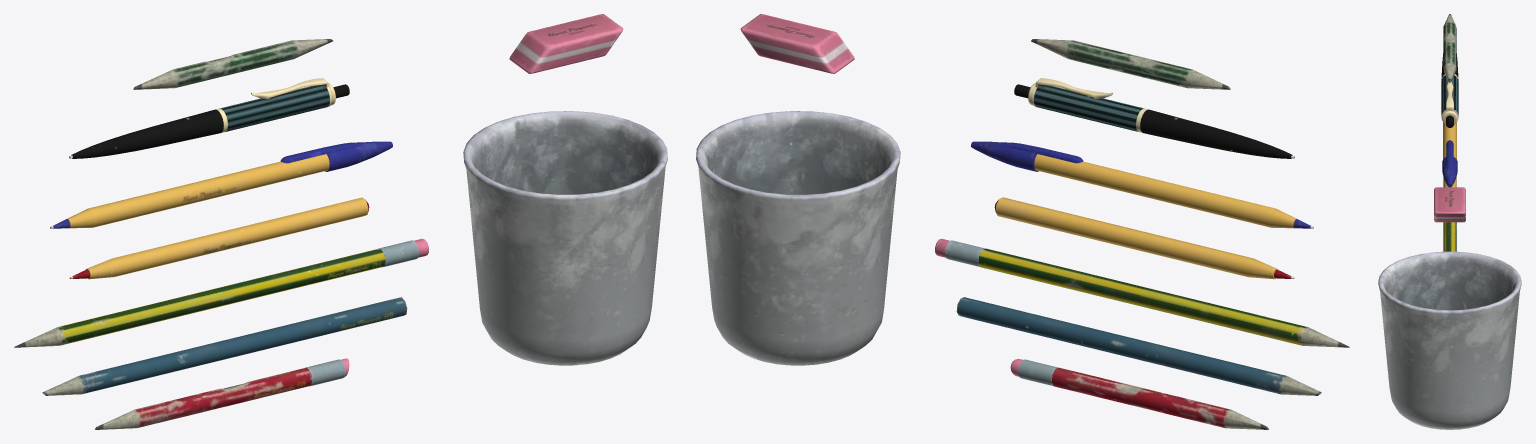
The model's file is stationery_supplies.glb.
3 views of the same model, side by side, from view 1: azimuth 30°, elevation 25°; view 2: azimuth 150°, elevation 25°; view 3: azimuth 270°, elevation 25° (orthographic). The views are drawn at different scales.
Visible parts, largest first — view 1: stationery_supplies_pen_red; view 2: stationery_supplies_pen_red; view 3: stationery_supplies_pen_red.
Boxes of the visible parts, x1=… form: stationery_supplies_pen_red: x1=14, y1=14, x2=667, y2=429; stationery_supplies_pen_red: x1=696, y1=14, x2=1349, y2=429; stationery_supplies_pen_red: x1=1378, y1=14, x2=1521, y2=429.
Size of the model in its own units: 0.3019 by 0.1644 by 0.0837.
1 material, 1 textured.
